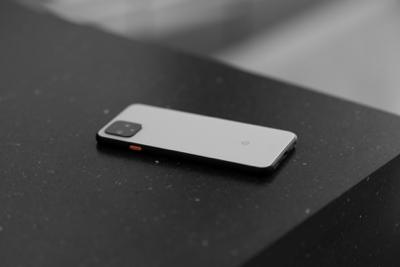cell-phone: (93, 100, 300, 184)
